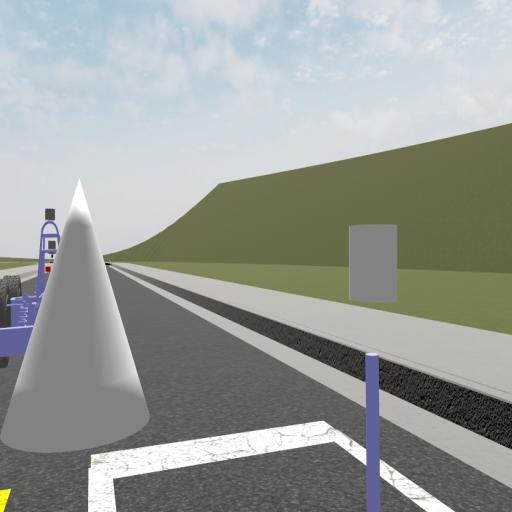ERP-42: (0, 210, 60, 366)
